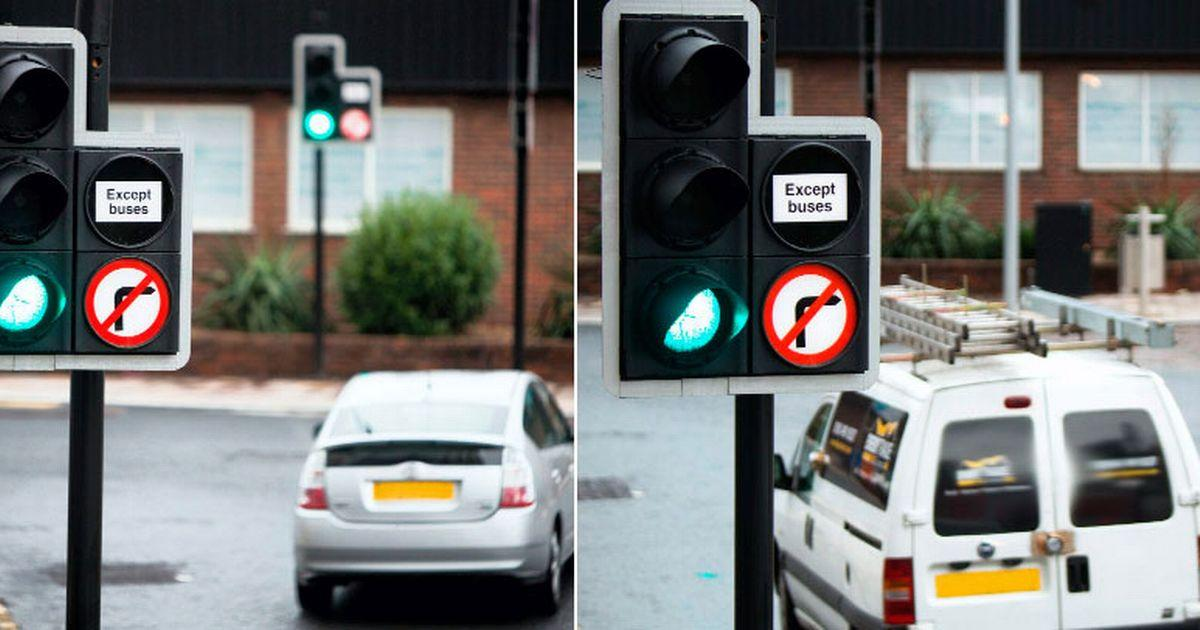no_right_turn: (760, 261, 857, 364), (80, 255, 172, 349)
